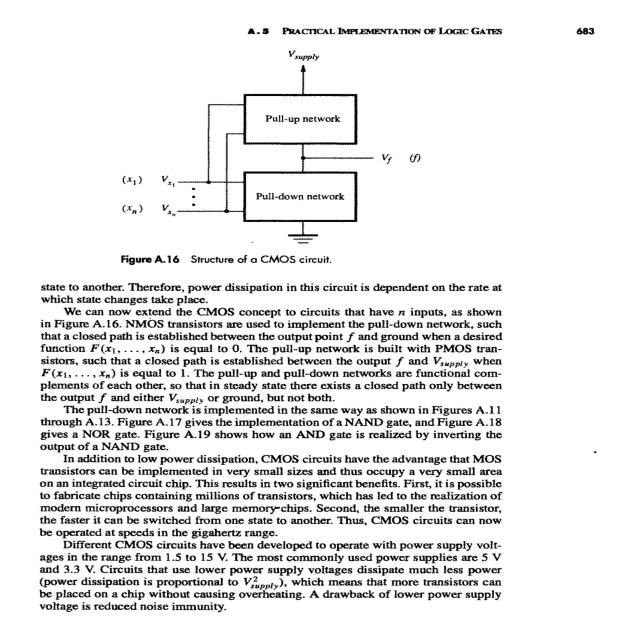diagram: (0, 33, 437, 269)
